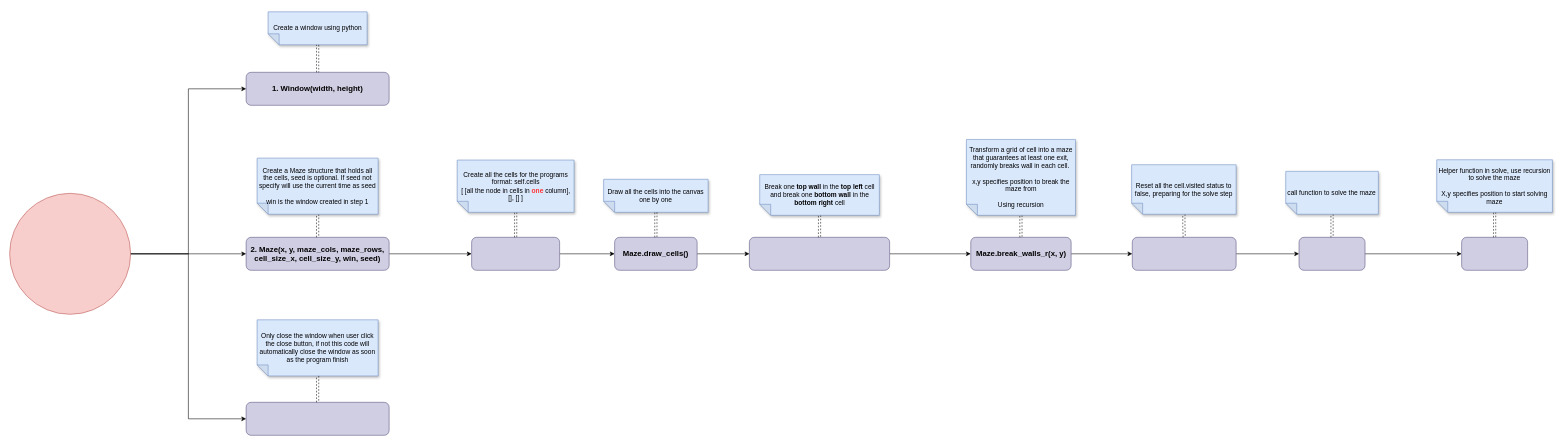
This 1566x445 diagram has some shape labels left out. The shapes that lost their labels are listed below. From the top down, each one's centre as x and y in pixels, then its label:
At point 70,253: "Maze solver".
At point 515,253: "Maze.create_cells()".
At point 819,253: "Maze.break_entrance_and_exit()".
At point 1184,253: "Maze.reset_cell_visited()".
At point 1331,253: "Maze.solve()".
At point 1494,253: "self.solve_r(x,y)".
At point 317,418: "3. Window.wait_for_close()".
